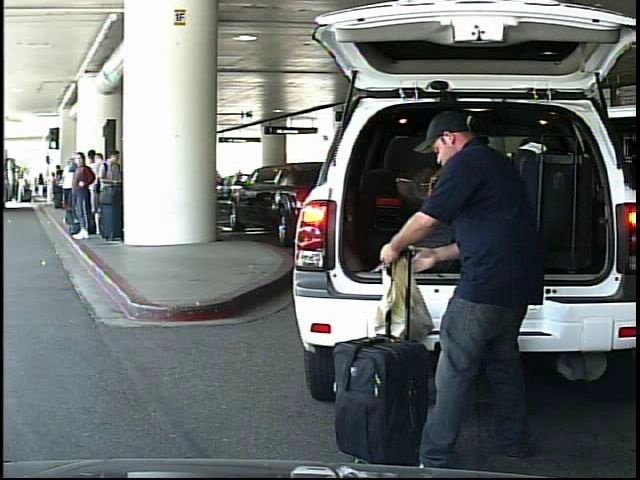person: (379, 107, 553, 475), (34, 172, 46, 202), (17, 175, 28, 205)
